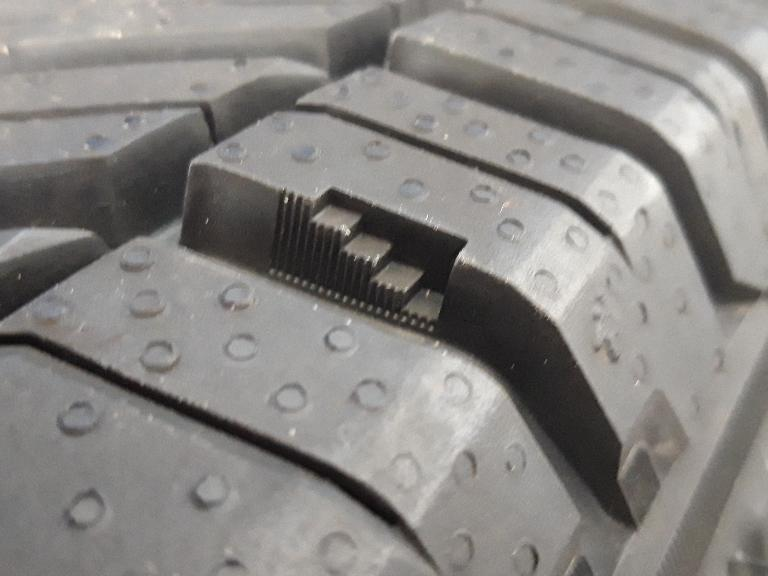temoin:100: (260, 175, 476, 349)
